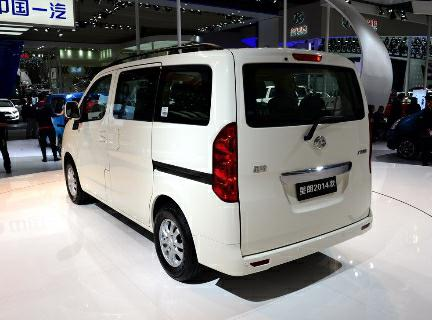广汽吉奥-星朗: (54, 45, 382, 289)
